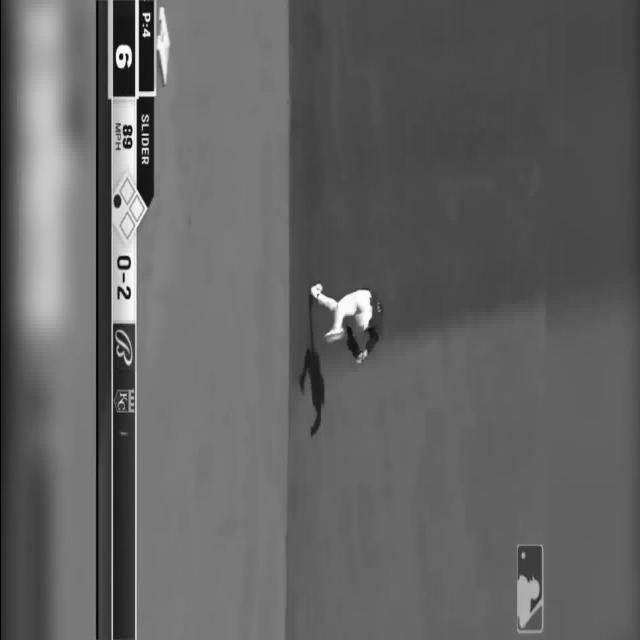shoe: (322, 328, 344, 342), (310, 282, 322, 298)
